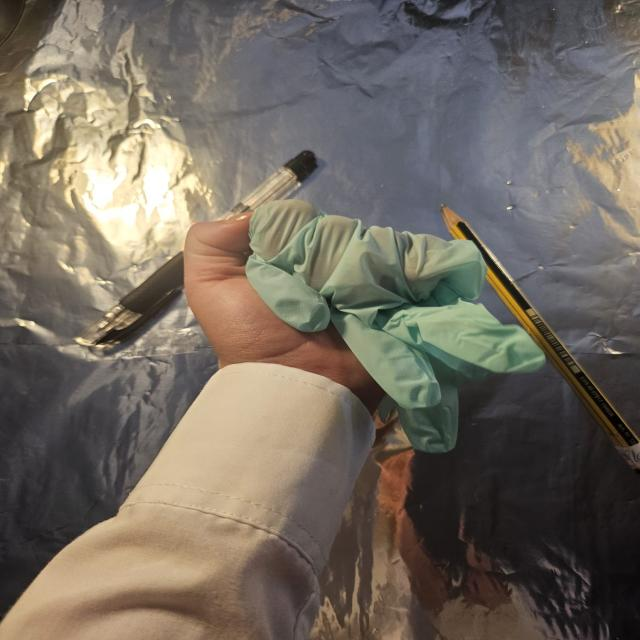glove_partial: (182, 198, 548, 424)
